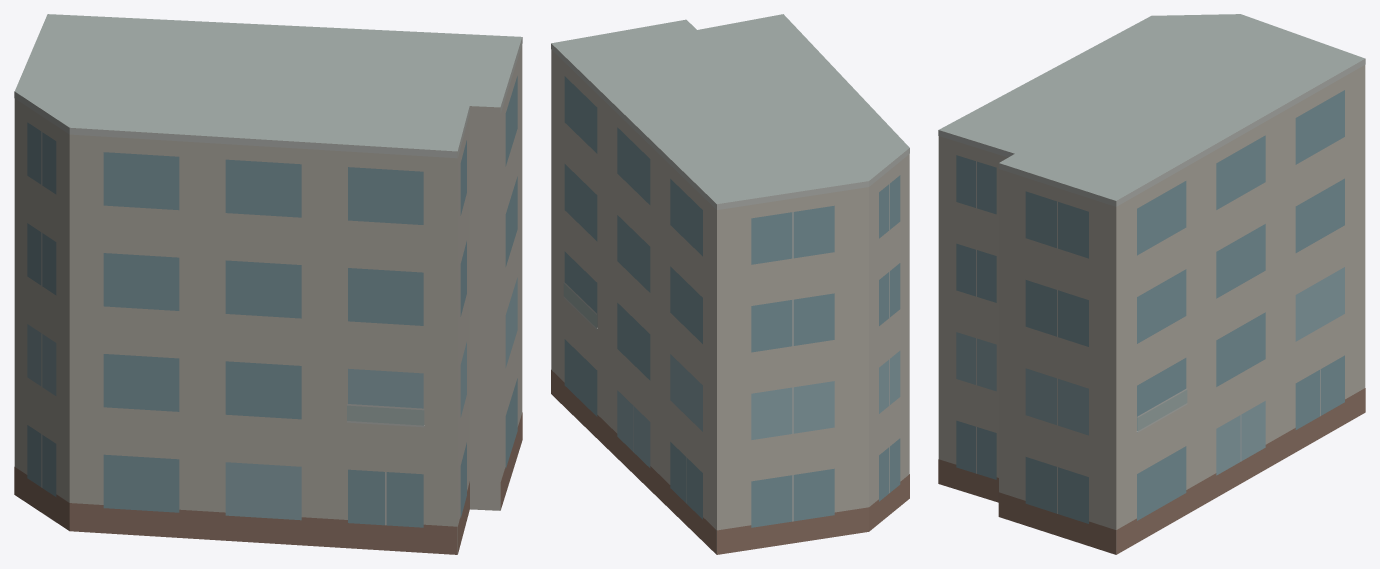
File: survey-upis-32801255.glb
The picture shows the model from 3 angles, left to right: view 1: azimuth 30°, elevation 25°; view 2: azimuth 150°, elevation 25°; view 3: azimuth 270°, elevation 25°; orthographic projection. The views are drawn at different scales.
Visible parts, largest first — view 1: survey-upis-32801255.tmp; view 2: survey-upis-32801255.tmp; view 3: survey-upis-32801255.tmp.
Boxes of the visible parts, x1,y1,x2,y2 form: survey-upis-32801255.tmp: [14, 14, 522, 554]; survey-upis-32801255.tmp: [551, 14, 909, 554]; survey-upis-32801255.tmp: [938, 14, 1365, 554].
Bounding box in the file's own units: 16.32 × 14.4 × 15.75.
